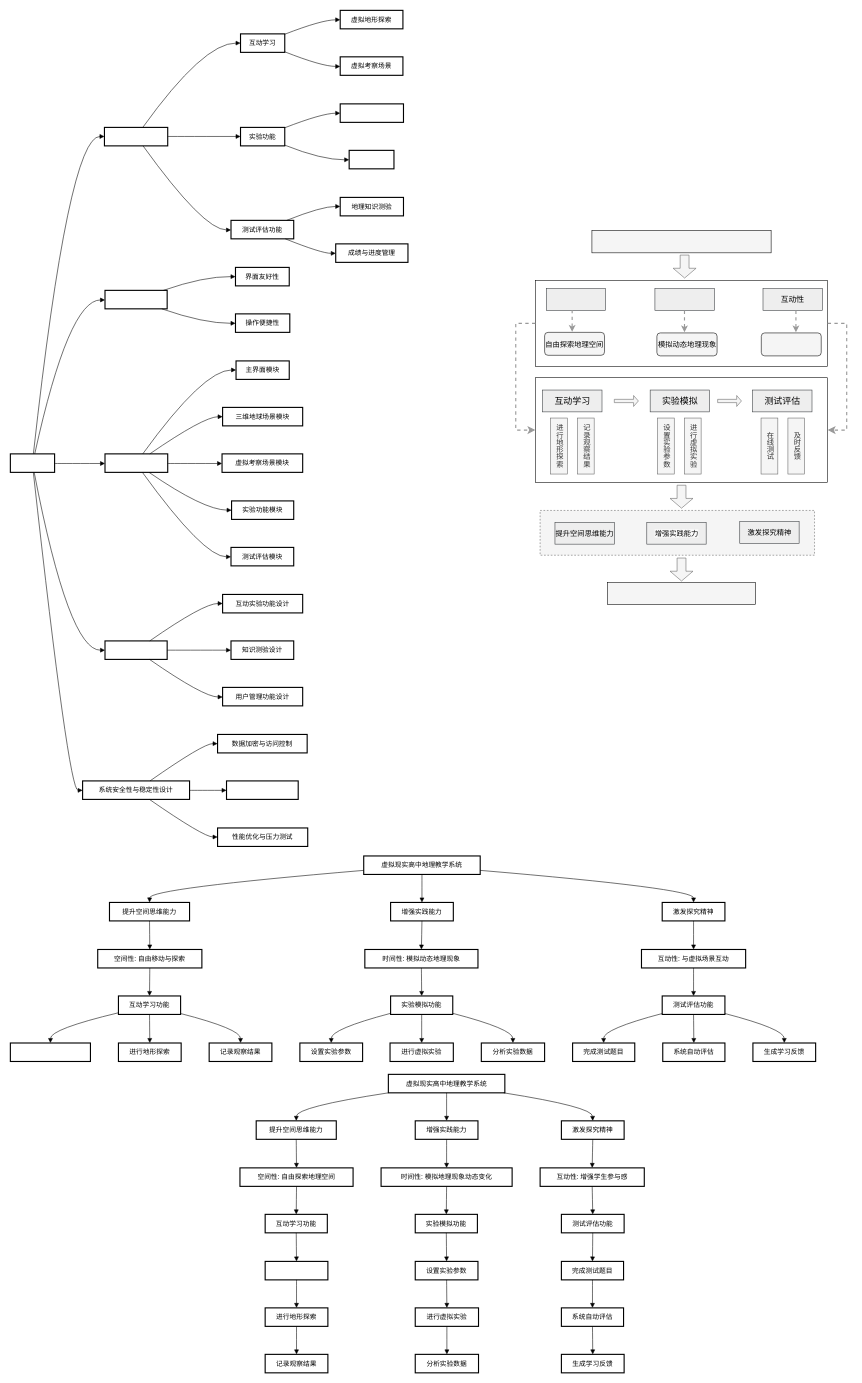
Some shapes in this 862 by 1383 pixel diagram are drawn without their labels. The box of each missing label's shape, as (x1, y1, x2, y2) in pixels:
互动实验: (348, 150, 394, 169)
具体功能设计: (104, 640, 167, 660)
功能需求分析: (104, 127, 168, 146)
地貌形成模拟: (339, 103, 404, 123)
增强学生参与感: (761, 332, 821, 356)
学生选择学习内容: (10, 1042, 91, 1062)
总体框架设计: (104, 453, 168, 473)
时间性: (654, 288, 714, 311)
用户体验设计: (104, 290, 167, 309)
空间性: (546, 288, 606, 311)
系统备份与恢复: (226, 780, 298, 800)
系统设计: (10, 453, 55, 473)
综合素养提升: (607, 582, 756, 605)
选择学习内容: (264, 1261, 328, 1280)
高中地理教学系统: (591, 230, 771, 253)
